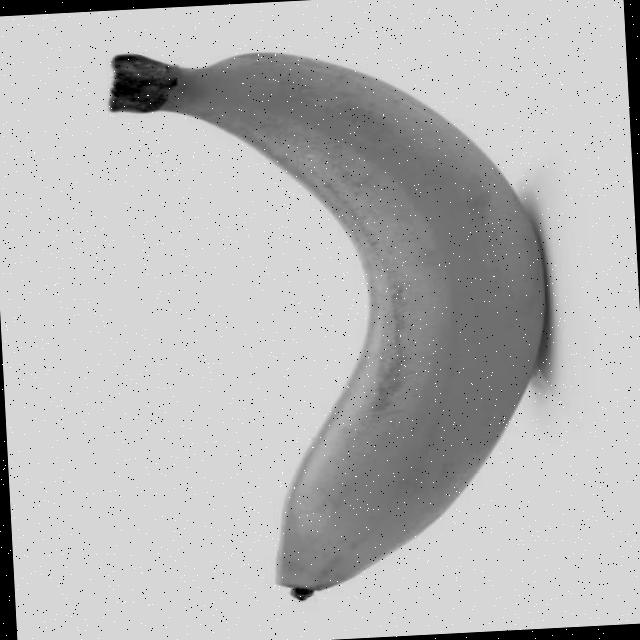banana: (105, 36, 561, 603)
